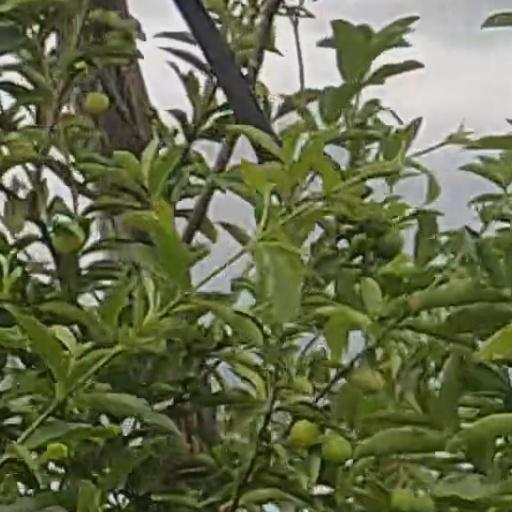acerola_verde: (324, 439, 350, 463), (292, 423, 317, 446)
